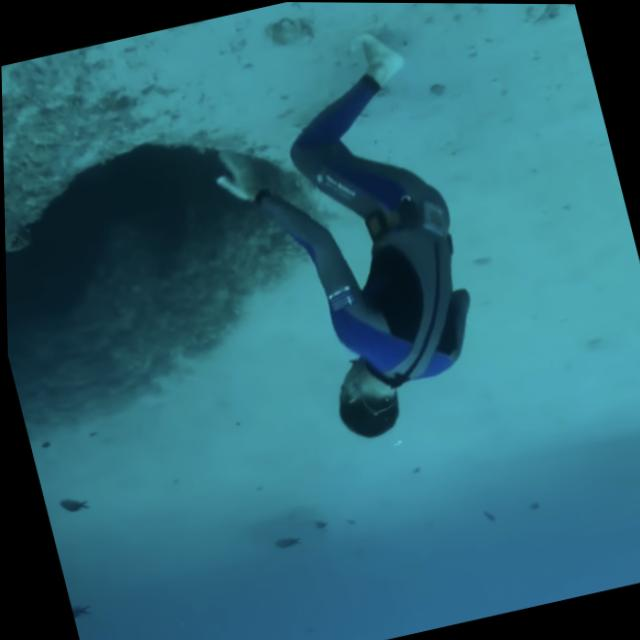human: (179, 21, 502, 467)
